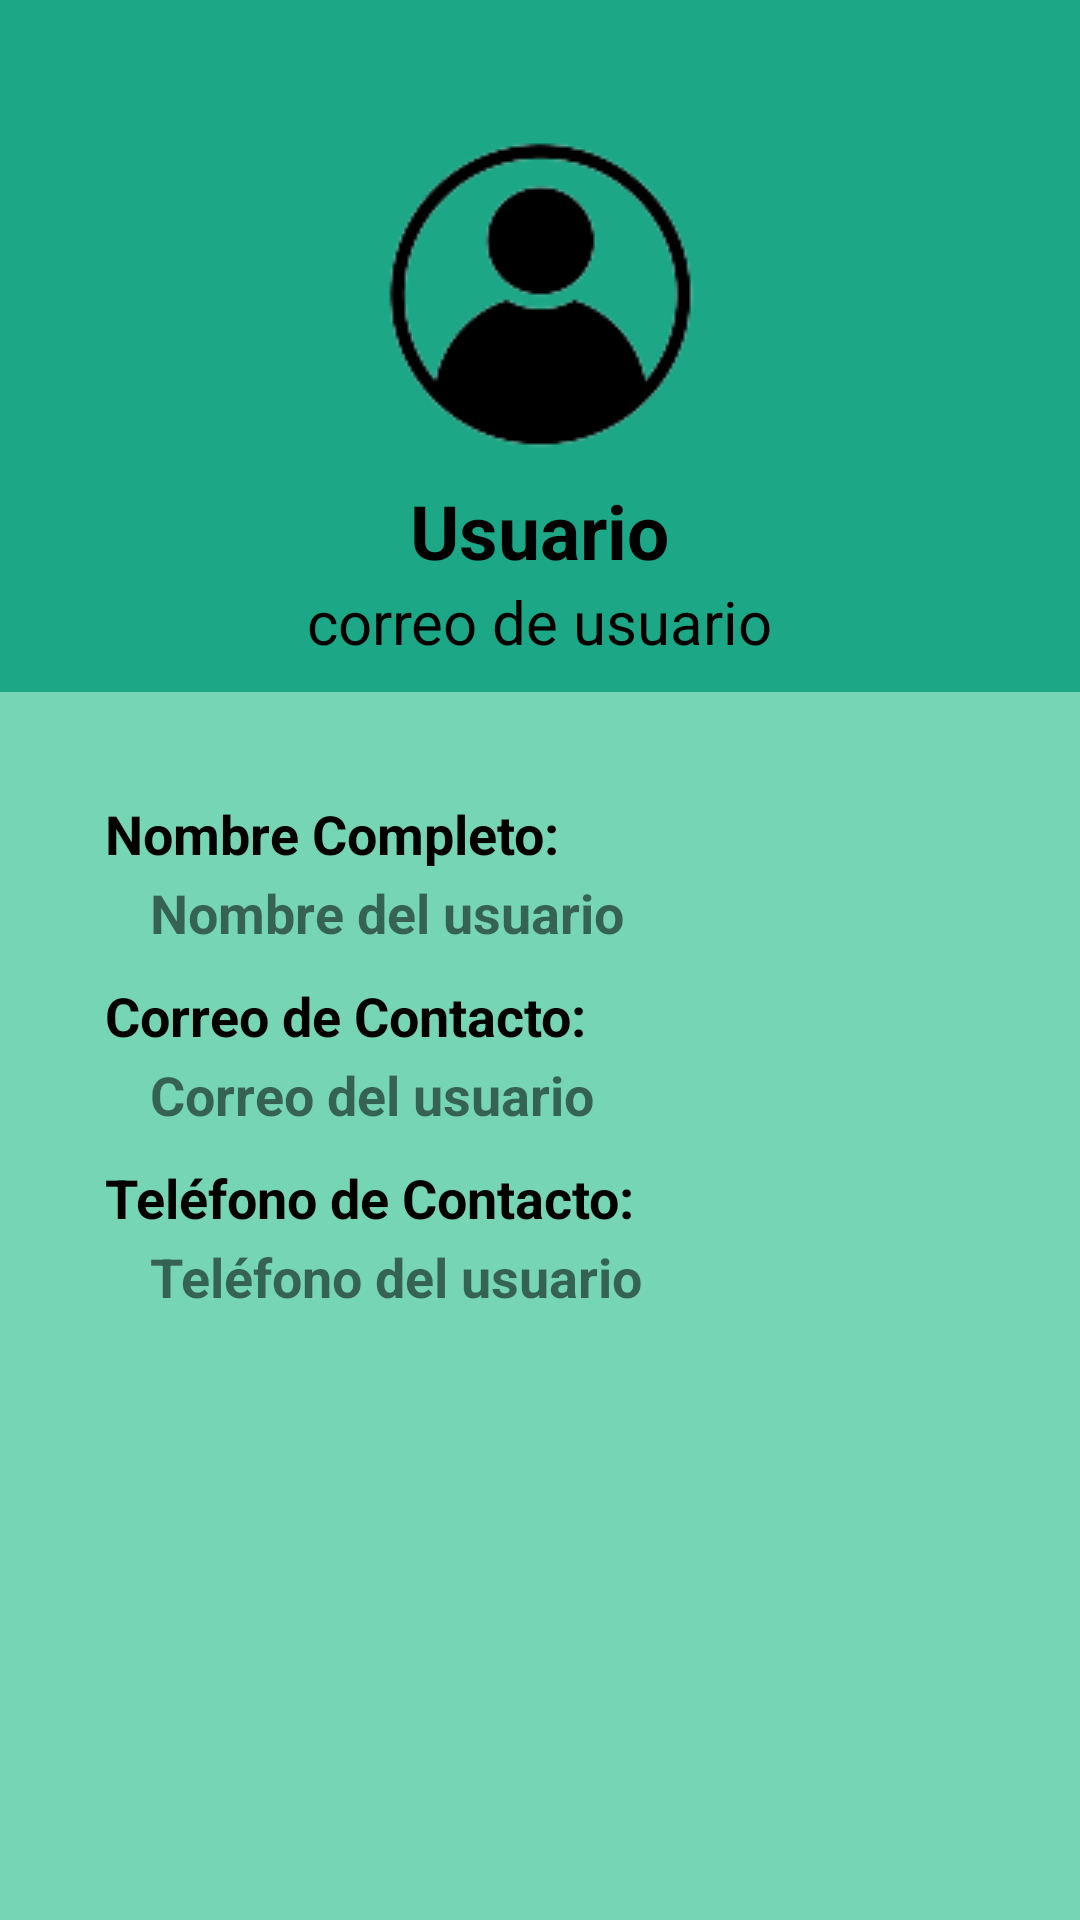

Icons on this 1080 x 1920 Android screen, each with the point to tap as point (x, y):
iconoperfil: point (541, 294)
